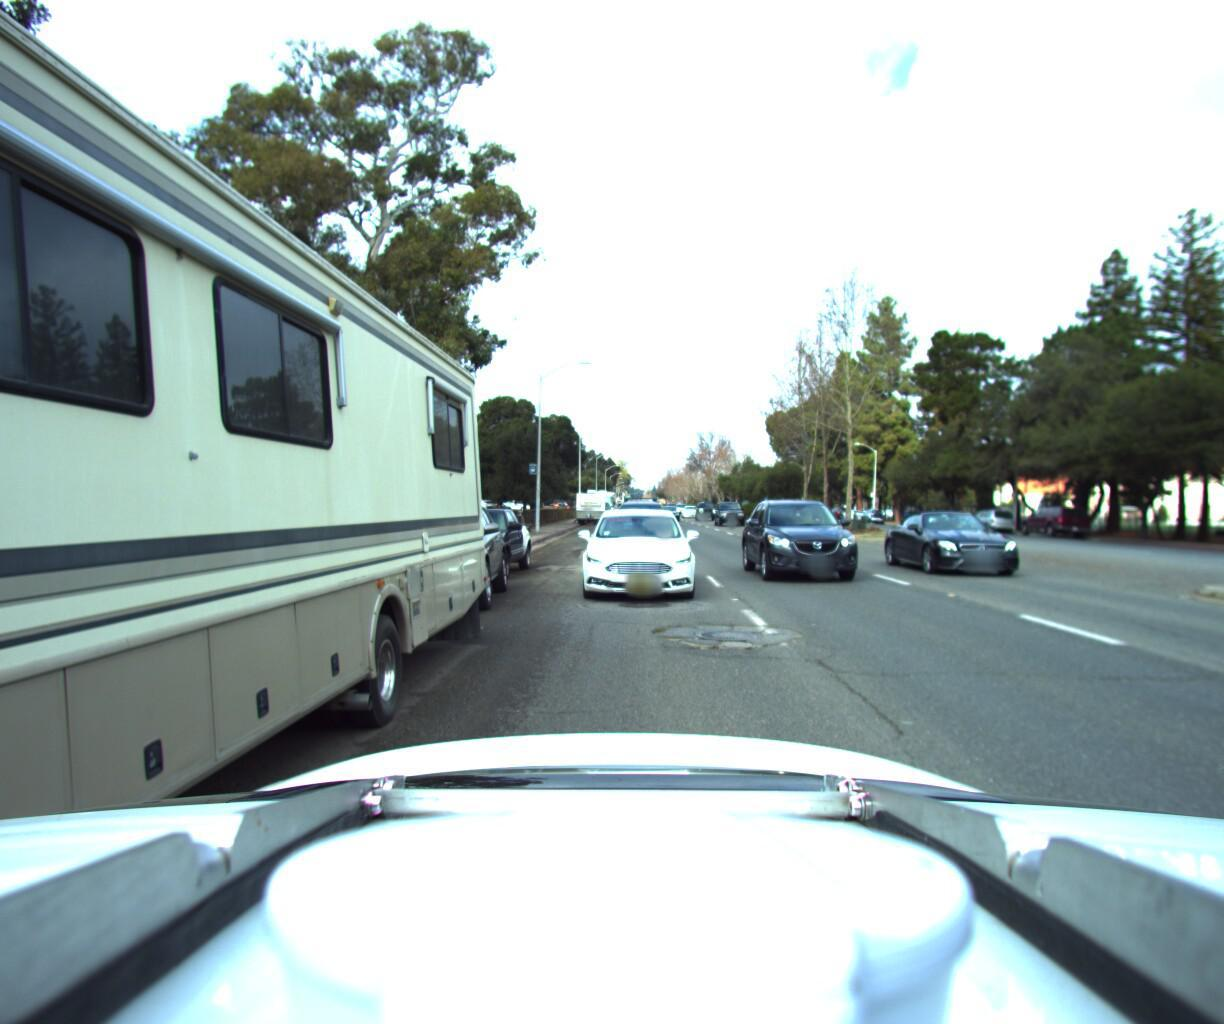car: (341, 488, 513, 624), (738, 489, 894, 589), (572, 493, 697, 607), (890, 496, 1058, 578), (415, 500, 538, 590), (1014, 497, 1093, 534), (613, 488, 665, 535), (961, 500, 1020, 528), (714, 496, 751, 520), (656, 498, 681, 518), (697, 494, 723, 513)
other_vehicle: (571, 484, 607, 518)
